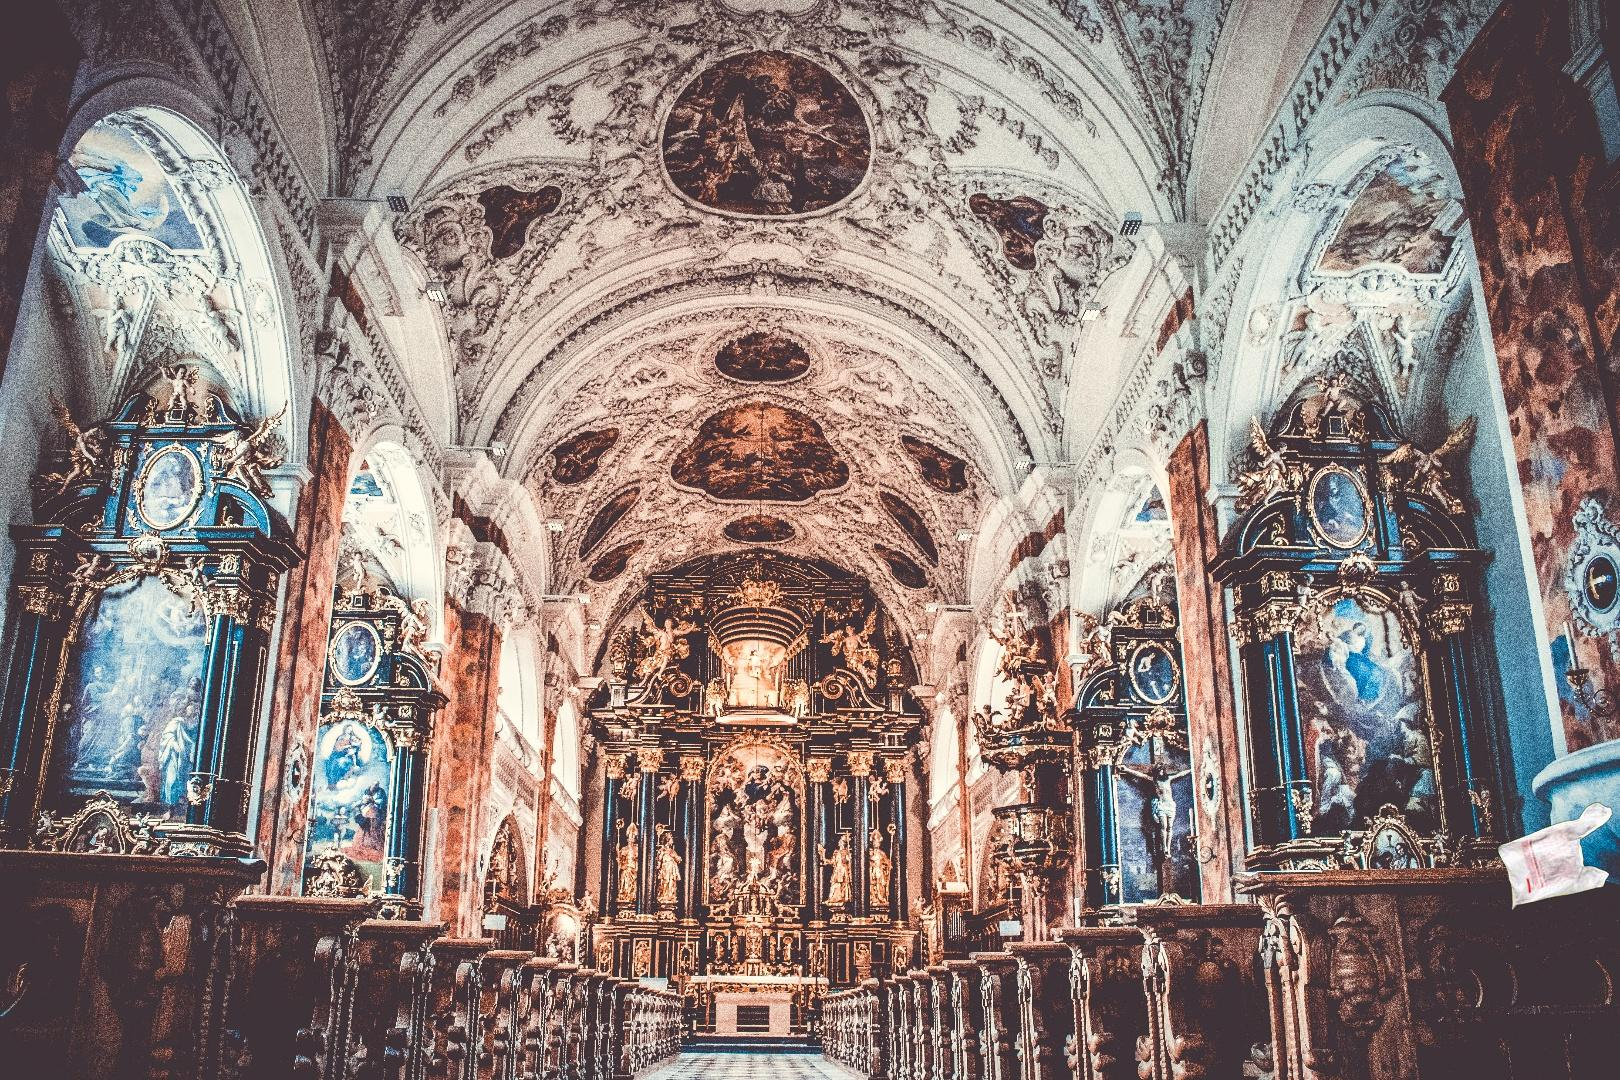plastic-bag: (1496, 800, 1614, 912)
